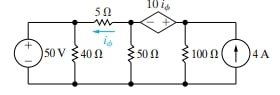current: (220, 37, 253, 70), (12, 37, 45, 69), (69, 43, 81, 65)
dc: (12, 37, 44, 68), (69, 43, 81, 64)
dc_dependent: (137, 10, 179, 34)
resistor: (180, 42, 191, 65), (90, 19, 118, 28), (125, 43, 137, 63), (70, 43, 79, 65)
